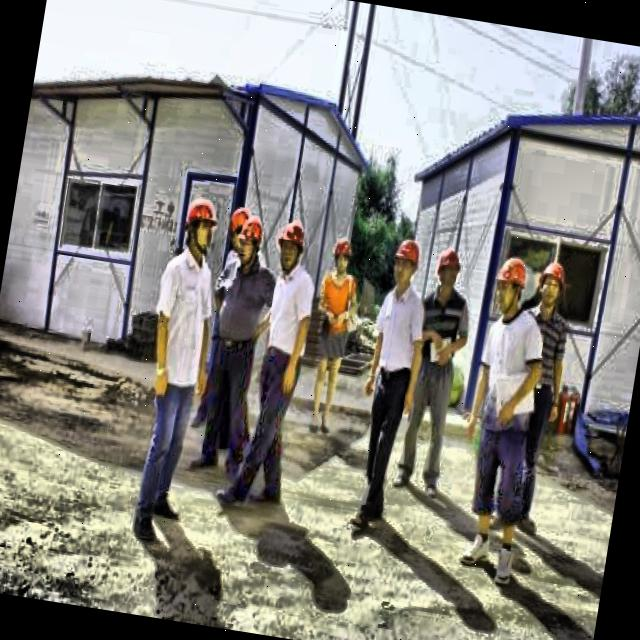helmet: (490, 250, 534, 324), (180, 191, 222, 261), (387, 230, 425, 294), (274, 212, 312, 274), (531, 255, 569, 316), (232, 213, 267, 272), (433, 243, 468, 297), (223, 204, 250, 254), (330, 232, 357, 279)
